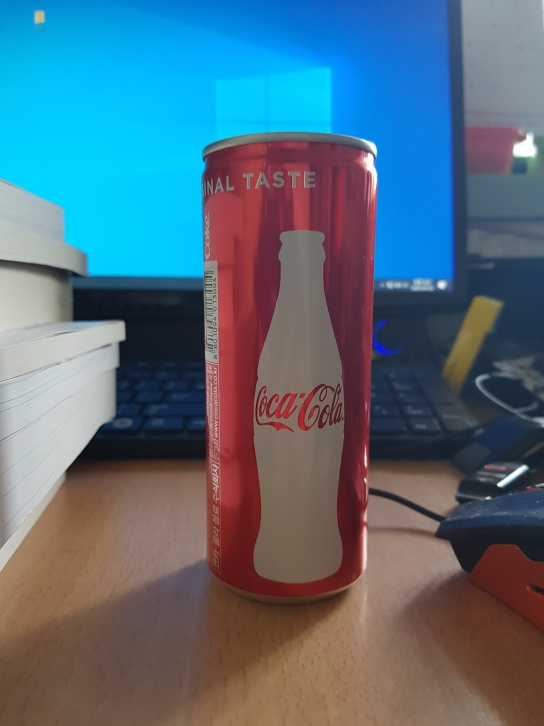Can: (197, 124, 375, 609)
